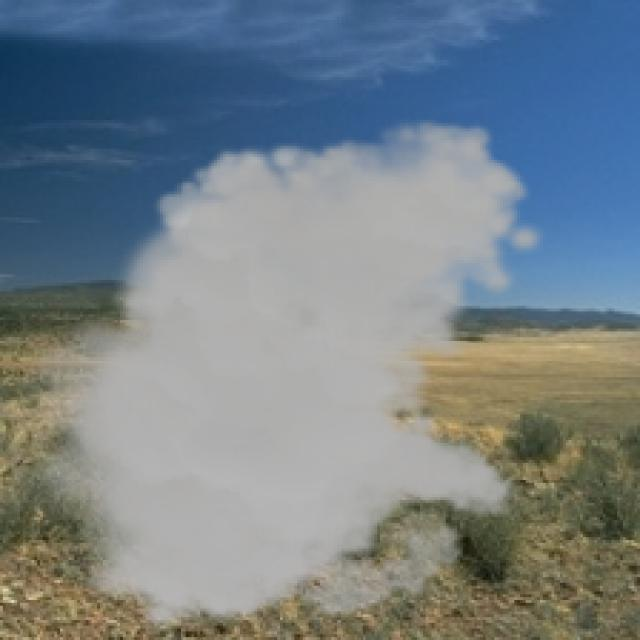smoke: (17, 117, 549, 634)
